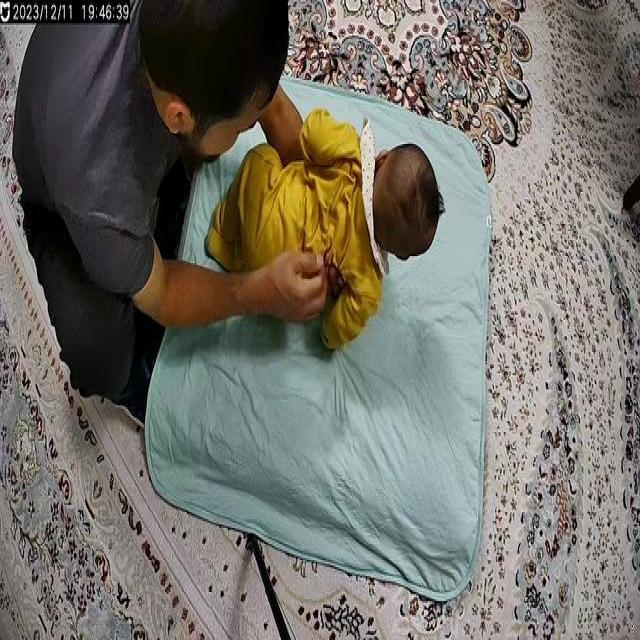baby: (201, 101, 447, 362)
